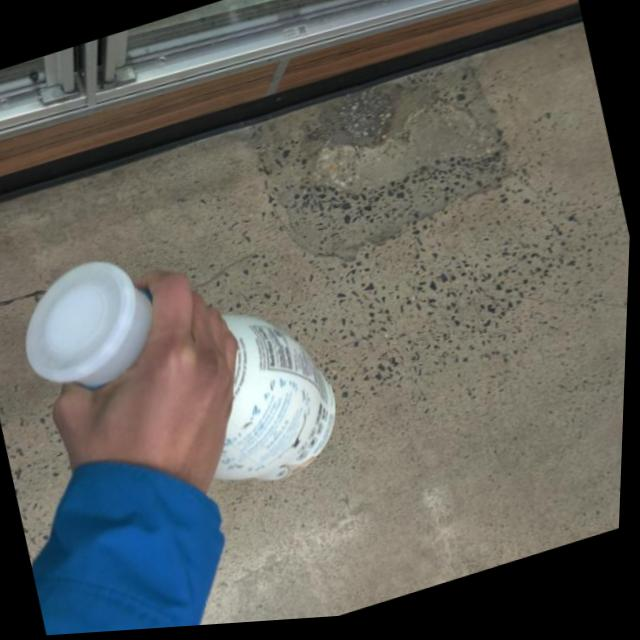Milk: (2, 199, 357, 552)
